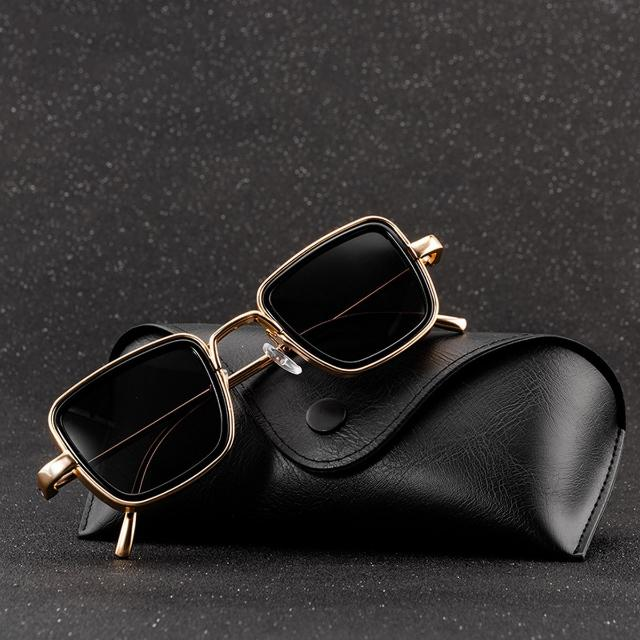Sunglasses: (28, 198, 480, 562)
